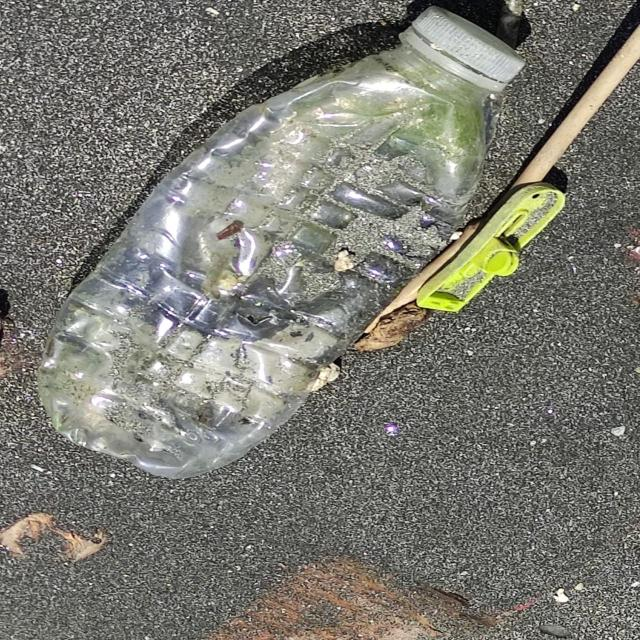litter: (28, 6, 526, 482)
